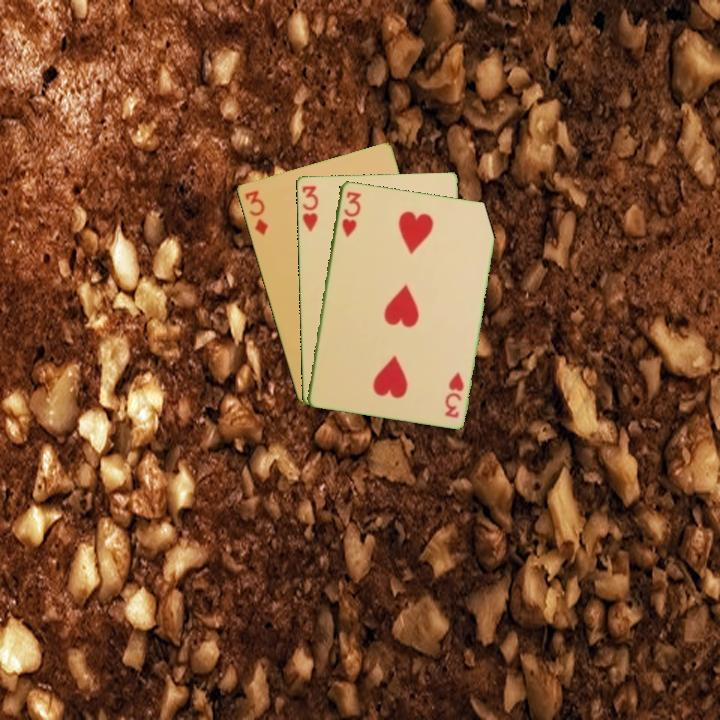3d: (241, 187, 270, 238)
3h: (338, 188, 364, 240), (441, 368, 466, 420), (298, 182, 321, 234)
